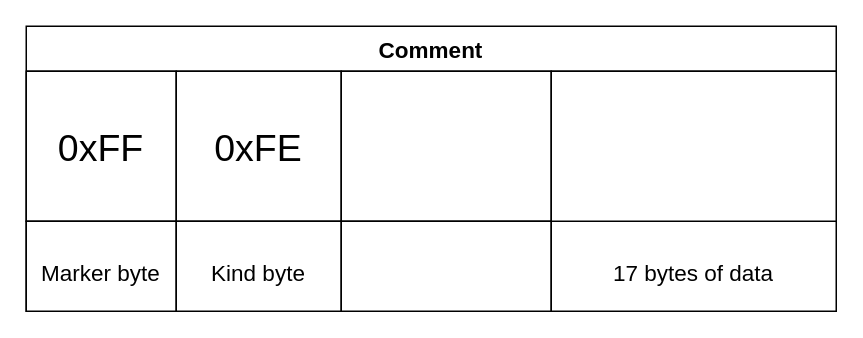
This 863x338 diagram has some shape labels left out. The shapes that lost their labels are listed below. From the top down, each one's centre as x and y in pixels, then its label:
point 445,145: 0x00 0x13 (dec 19)
point 693,145: b"Created with GIMP"
point 445,265: 2-byte length
